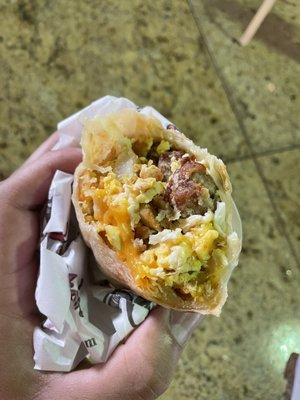burger: (71, 102, 244, 316)
